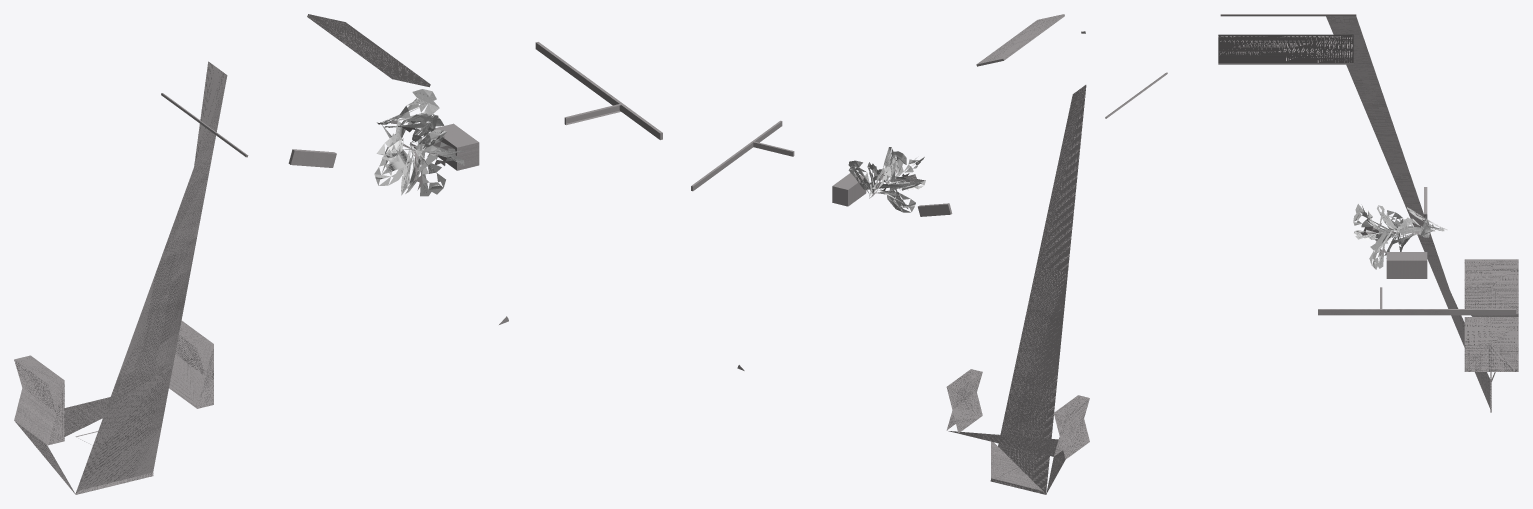
Rendered from Radiant Vermin 3d model.obj.
The picture shows the model from 3 angles, left to right: view 1: azimuth 30°, elevation 25°; view 2: azimuth 150°, elevation 25°; view 3: azimuth 270°, elevation 25°; orthographic projection. The views are drawn at different scales.
Parts seen in each view (by area): view 1: Set; view 2: Set; view 3: Set.
Part boxes in pixels (left/top/right/bottom): Set: left=14, top=14, right=662, bottom=494; Set: left=691, top=14, right=1167, bottom=494; Set: left=1218, top=14, right=1518, bottom=412.
Bounding box in the file's own units: 7211 × 6697 × 4839.
